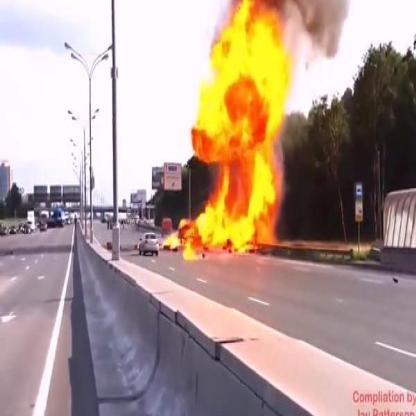fire: (162, 0, 296, 264)
